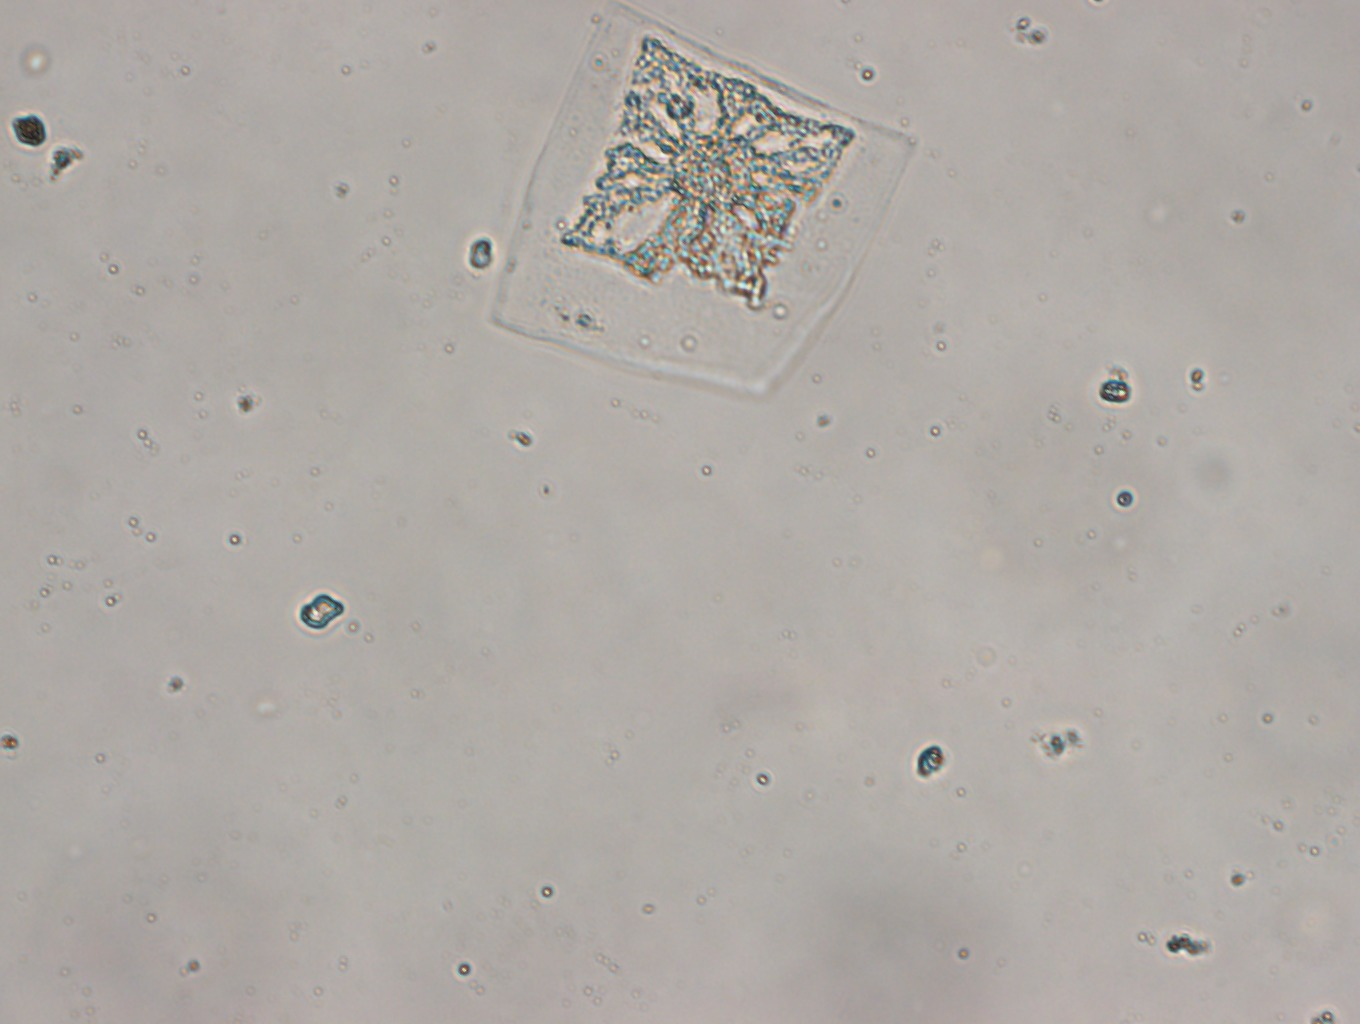helicotheca: (482, 4, 914, 403)
